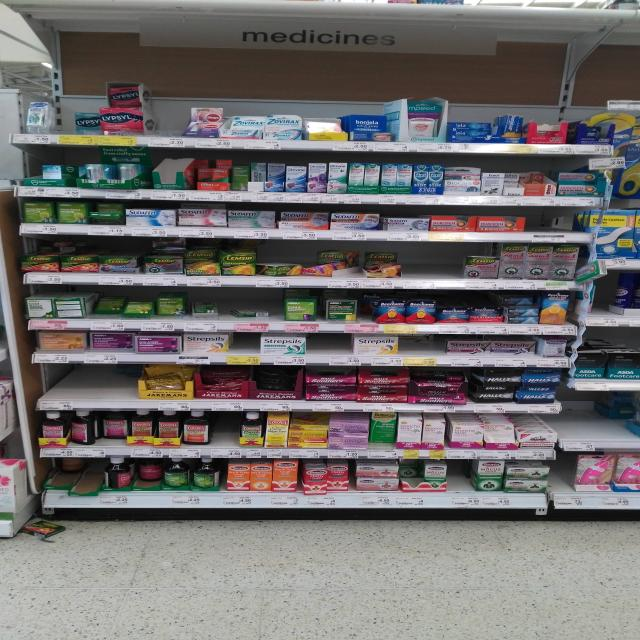void: (570, 394, 631, 445), (49, 367, 129, 395), (404, 245, 458, 279), (155, 87, 181, 137), (310, 335, 348, 355)
